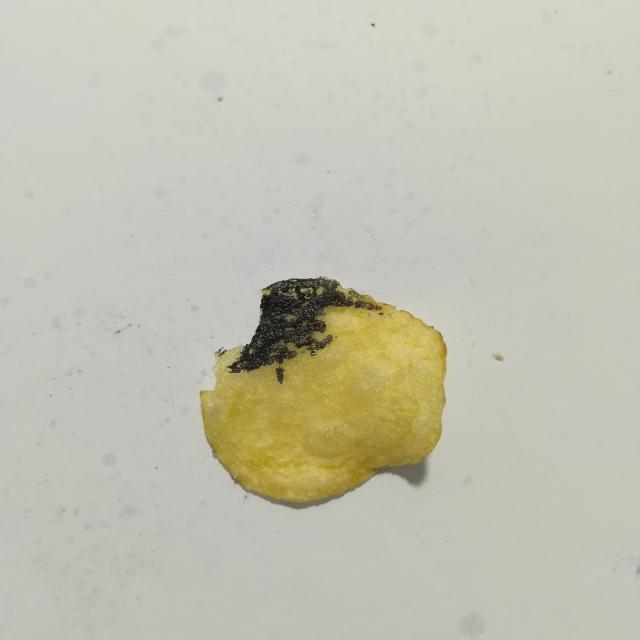chip: (200, 277, 446, 503)
damaged: (229, 278, 381, 373), (276, 366, 284, 384), (219, 349, 227, 357), (378, 312, 384, 315)
semi-damaged: (217, 347, 224, 354)
